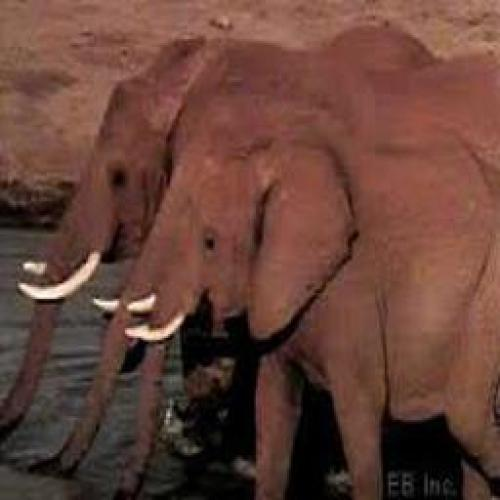african_elephant-endangered: (9, 21, 438, 486), (46, 45, 496, 479), (122, 120, 494, 485)
